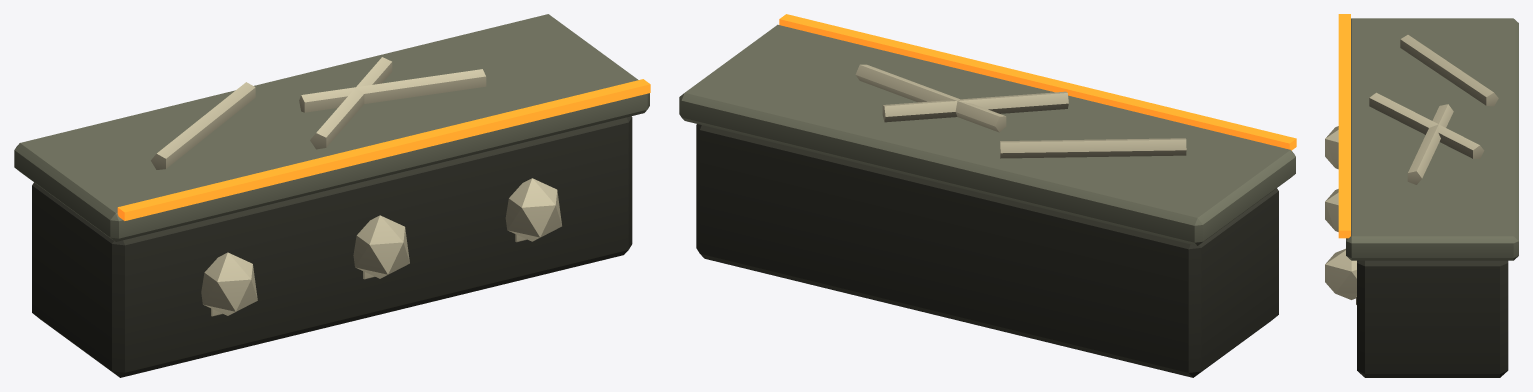
The model's file is low_barrier.glb.
The picture shows the model from 3 angles, left to right: view 1: azimuth 30°, elevation 25°; view 2: azimuth 150°, elevation 25°; view 3: azimuth 270°, elevation 25°; orthographic projection. The views are drawn at different scales.
Visible parts, largest first — view 1: low_barrier_mesh; view 2: low_barrier_mesh; view 3: low_barrier_mesh.
Boxes of the visible parts, box(x1,y1,x2,y2) form: low_barrier_mesh: box(14, 14, 650, 377); low_barrier_mesh: box(679, 14, 1296, 377); low_barrier_mesh: box(1325, 14, 1518, 377).
Bounding box in the file's own units: 1.95 × 0.6585 × 0.7182.
